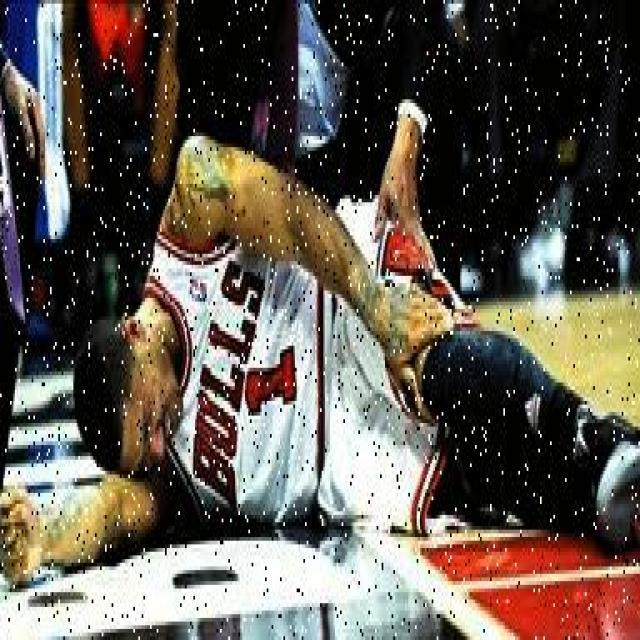fall: (59, 151, 628, 537)
